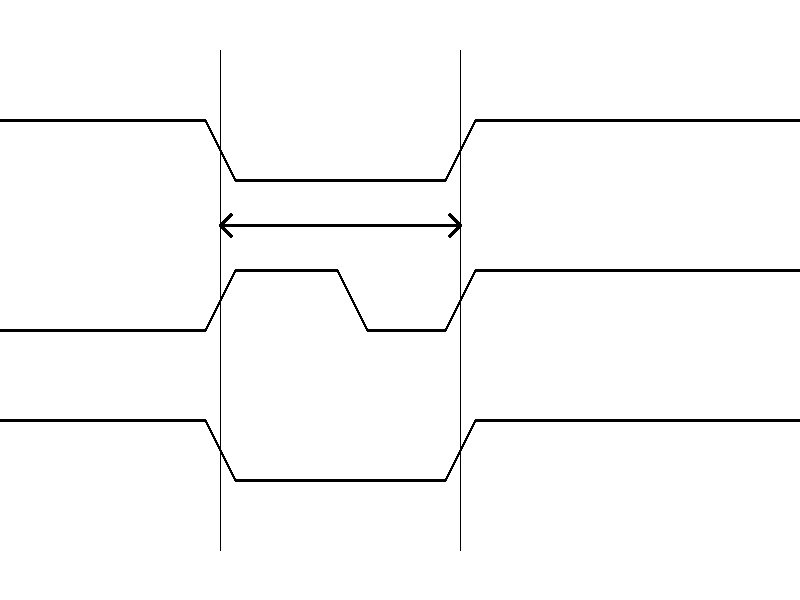double_arrow: (220, 210, 460, 240)
